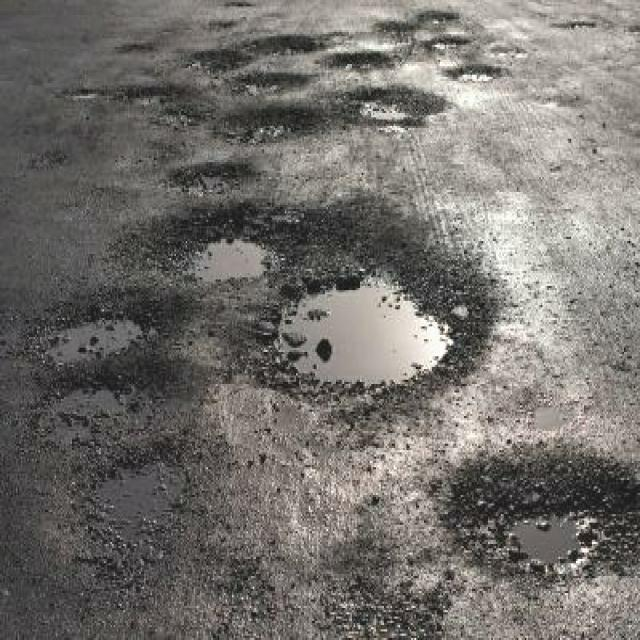Pothole: (250, 209, 501, 405), (445, 448, 640, 585), (62, 437, 202, 599), (29, 363, 189, 448), (112, 203, 280, 282), (30, 290, 190, 369), (216, 100, 328, 149), (123, 73, 211, 130), (342, 83, 453, 128), (165, 158, 264, 194), (186, 45, 253, 77), (322, 47, 397, 75), (251, 32, 326, 58), (446, 62, 501, 83), (378, 17, 416, 34), (434, 34, 474, 47), (422, 9, 459, 21)
